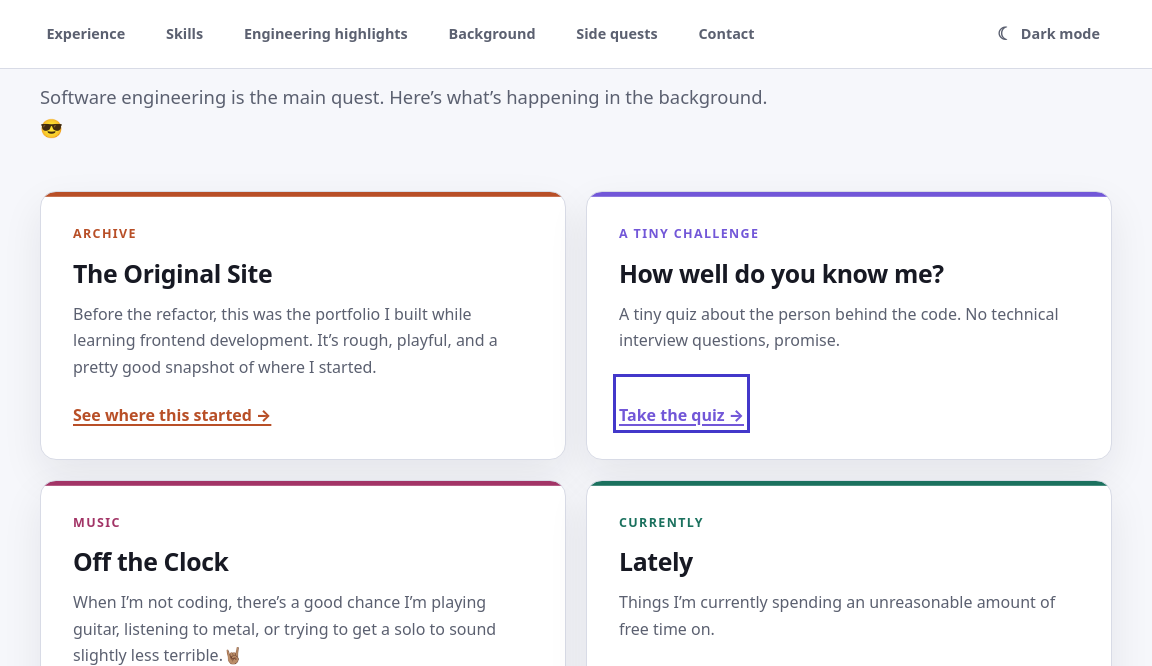
Test: App › reveals and closes the quiz with predictable focus
The width and height of the screenshot is (1152, 666).
(page scrolled)
Type keys "[Enter]"
(page scrolled)
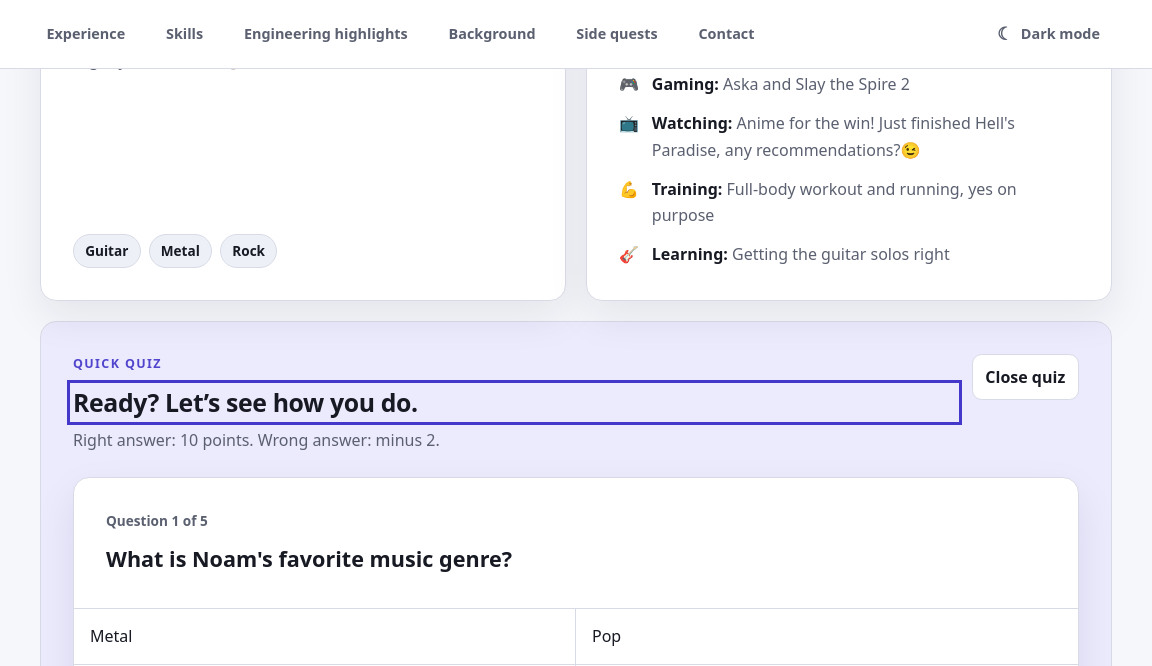
Click the button "Close quiz".
click(1025, 377)  # box [972, 354, 1079, 400]
(page scrolled)
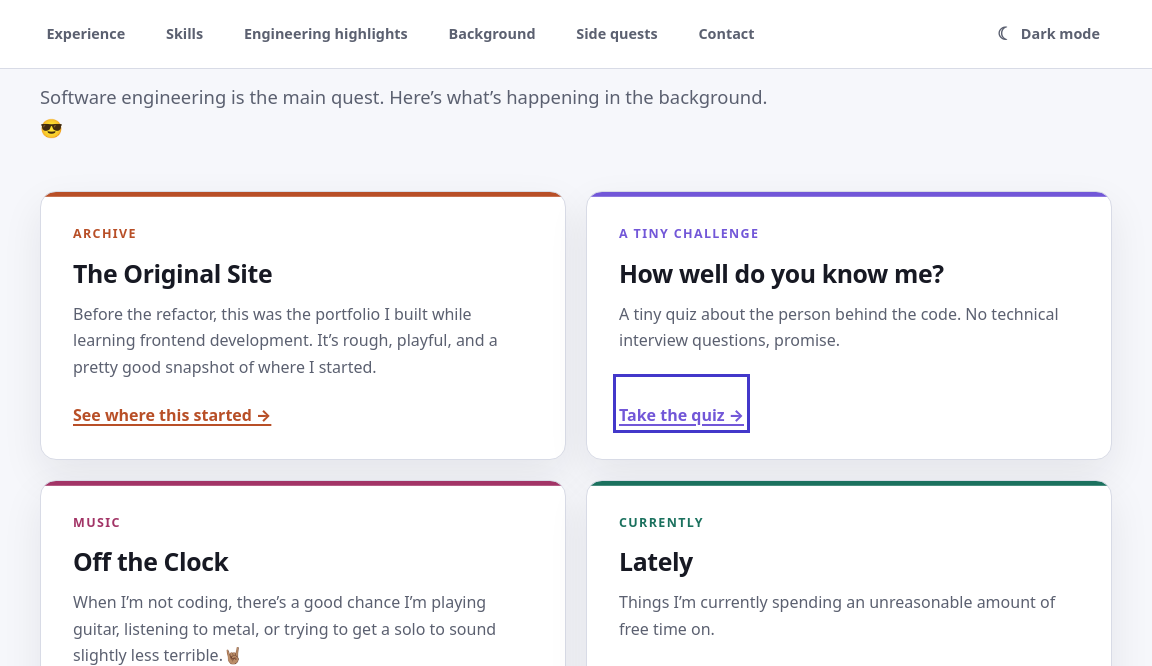
Expected: the heading "What is Noam's favorite music genre?" is gone
Expected: the button "Take the quiz →" is collapsed, [619, 380, 744, 426]
